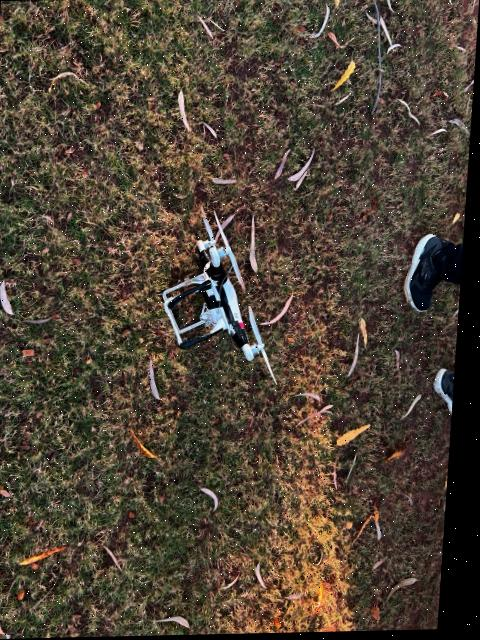drone: (86, 163, 360, 437)
